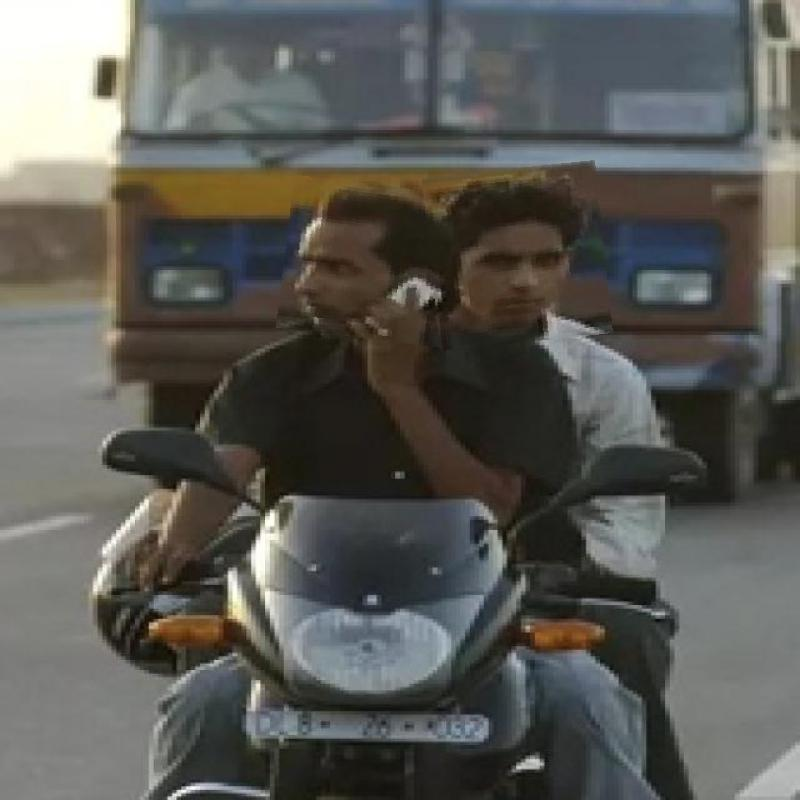nohelmet: (426, 164, 609, 348), (280, 180, 474, 345)
